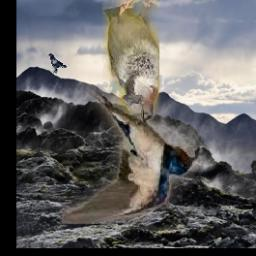Crow: (47, 52, 67, 74)
Sparrow: (103, 0, 160, 113)
Swallow: (62, 71, 195, 225)
